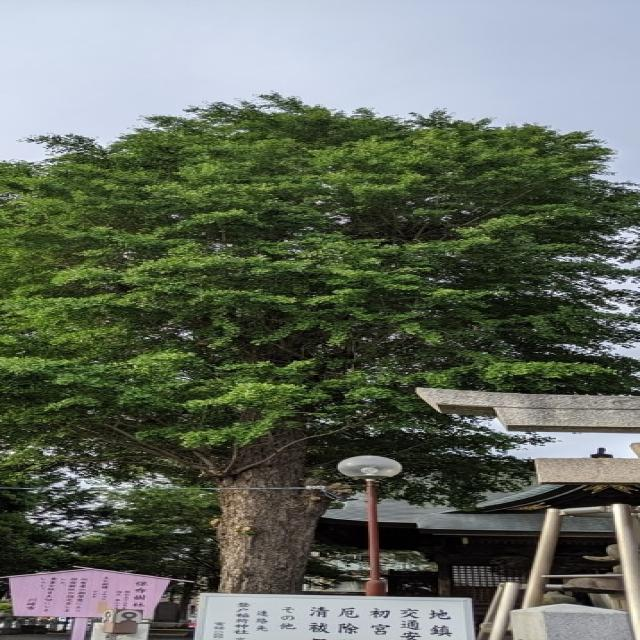ginkgo: (0, 88, 640, 594)
